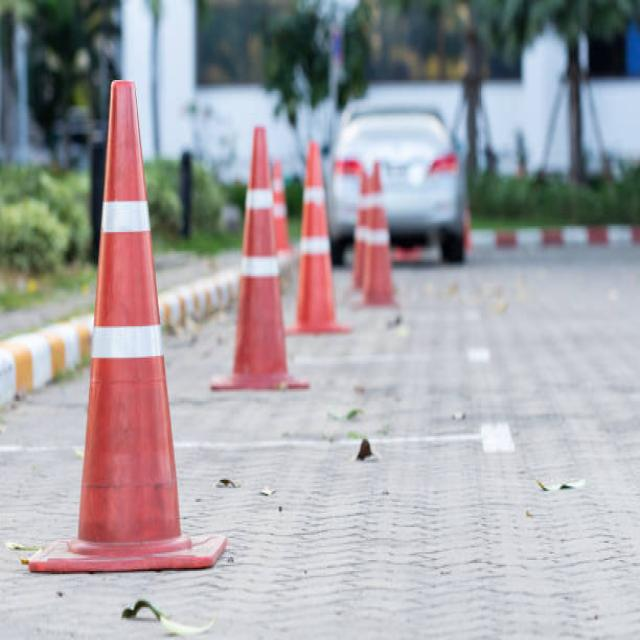Traffic Cone: (34, 33, 237, 596), (204, 87, 314, 418)
